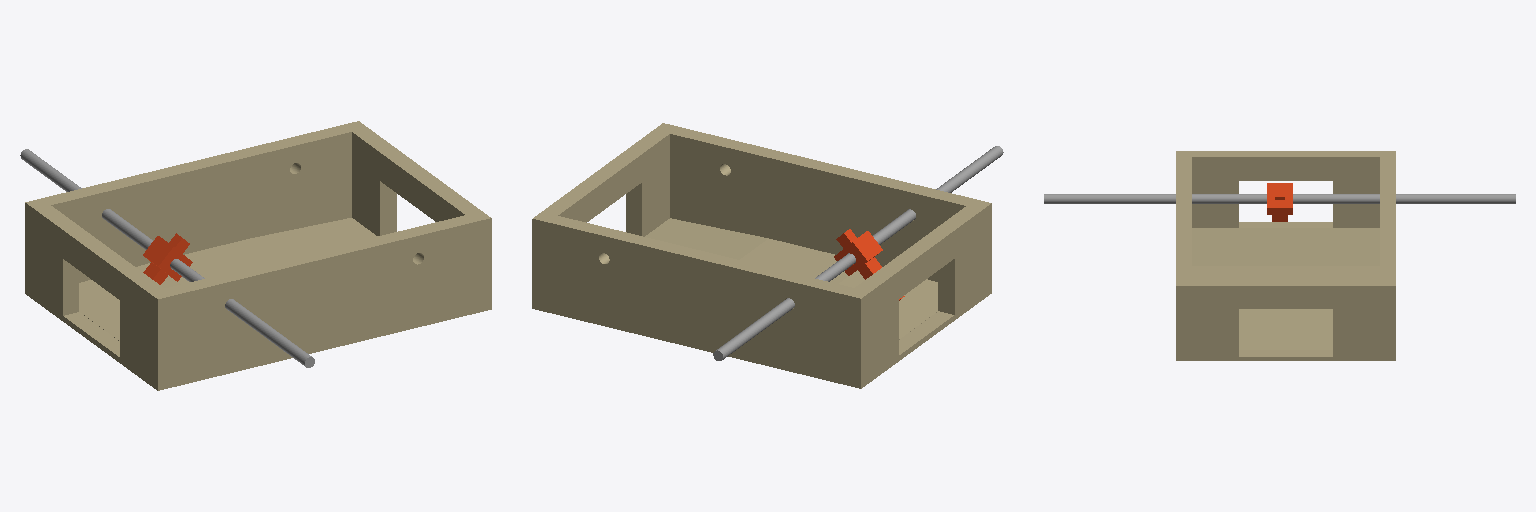
The robot description file, URDF, robot "foosball_robot":
<?xml version="1.0" ?>
<!-- Generated using onshape-to-robot -->
<!-- Onshape https://cad.onshape.com/documents/e803f61fd7378df7db81a183/w/36ce3c529374e351e627bf1e/e/ae663fd50540cead502d899d -->
<robot name="foosball_robot">
  <!-- Link main_body -->
  <link name="main_body">
    <inertial>
      <origin xyz="-1.49963e-14 6.72268e-17 0.0522025" rpy="0 0 0"/>
      <mass value="4.72465"/>
      <inertia ixx="0.134376" ixy="0" ixz="-1.81578e-12" iyy="0.20079" iyz="1.4124e-16" izz="0.30924"/>
    </inertial>
    <!-- Part main_body -->
    <visual>
      <origin xyz="-1.21021e-18 3.54014e-18 0" rpy="0 -0 0"/>
      <geometry>
        <mesh filename="package://assets/main_body.stl"/>
      </geometry>
      <material name="main_body_material">
        <color rgba="0.721569 0.678431 0.54902 1"/>
      </material>
    </visual>
    <!-- <collision>
      <origin xyz="-1.21021e-18 3.54014e-18 0" rpy="0 -0 0"/>
      <geometry>
        <mesh filename="package://assets/main_body.stl"/>
      </geometry>
    </collision> -->
  </link>
  <!-- Link rod -->
  <link name="rod">
    <inertial>
      <origin xyz="-1.38778e-17 -1.38778e-17 -0.45" rpy="0 0 0"/>
      <mass value="0.688975"/>
      <inertia ixx="0.0465213" ixy="0" ixz="0" iyy="0.0465213" iyz="-4.07439e-47" izz="3.109e-05"/>
    </inertial>
    <!-- Part rod -->
    <visual>
      <origin xyz="-0.0414993 -0.0452426 -0.45" rpy="-1.5708 -0 0"/>
      <geometry>
        <mesh filename="package://assets/rod.stl"/>
      </geometry>
      <material name="rod_material">
        <color rgba="0.647059 0.647059 0.647059 1"/>
      </material>
    </visual>
    <collision>
      <origin xyz="-0.0414993 -0.0452426 -0.45" rpy="-1.5708 -0 0"/>
      <geometry>
        <mesh filename="package://assets/rod.stl"/>
      </geometry>
    </collision>
  </link>
  <!-- Link player -->
  <link name="player">
    <inertial>
      <origin xyz="-4.34546e-17 0.0188179 1.59852e-17" rpy="0 0 0"/>
      <mass value="0.154321"/>
      <inertia ixx="0.000209611" ixy="-5.91939e-22" ixz="7.37338e-47" iyy="4.81083e-05" iyz="-2.36013e-47" izz="0.000210579"/>
    </inertial>
    <!-- Part player -->
    <visual>
      <origin xyz="-5.55112e-17 0.1 2.77556e-17" rpy="1.5708 -3.51765e-43 2.95182e-17"/>
      <geometry>
        <mesh filename="package://assets/player.stl"/>
      </geometry>
      <material name="player_material">
        <color rgba="0.866667 0.321569 0.156863 1"/>
      </material>
    </visual>
    <collision>
      <origin xyz="-5.55112e-17 0.1 2.77556e-17" rpy="1.5708 -3.51765e-43 2.95182e-17"/>
      <geometry>
        <mesh filename="package://assets/player.stl"/>
      </geometry>
    </collision>
  </link>
  <!-- Joint from rod to player -->
  <joint name="kicker" type="revolute">
    <origin xyz="0 0 -0.45" rpy="3.14159 2.13707e-27 -0.785315"/>
    <parent link="rod"/>
    <child link="player"/>
    <axis xyz="0 0 1"/>
    <limit effort="10" velocity="10" lower="-3.141592653589793" upper="3.141592653589793"/>
  </joint>
  <!-- Joint from main_body to rod -->
  <joint name="slider" type="prismatic">
    <origin xyz="-0.172 -0.461237 0.11" rpy="1.5708 -0 -1.81068e-29"/>
    <parent link="main_body"/>
    <child link="rod"/>
    <axis xyz="0 0 1"/>
    <limit effort="10" velocity="10" lower="-0.165237" upper="0.142763"/>
  </joint>
</robot>

--- Facts derived from the render (not from the file) ---
3 views of the same robot in one strip: view 1: azimuth 30°, elevation 25°; view 2: azimuth 150°, elevation 25°; view 3: azimuth 270°, elevation 25° (orthographic).
Model foosball_robot with 3 links and 2 joints (1 revolute, 1 prismatic), rooted at main_body, posed all joints at 0.
Visible links, largest first — view 1: main_body, rod, player; view 2: main_body, rod, player; view 3: main_body, rod, player.
Boxes of the visible links, left/top/right/bottom form: main_body: left=25, top=121, right=491, bottom=390; rod: left=20, top=149, right=314, bottom=367; player: left=143, top=233, right=192, bottom=284; main_body: left=532, top=123, right=991, bottom=388; rod: left=713, top=146, right=1003, bottom=360; player: left=834, top=229, right=904, bottom=300; main_body: left=1176, top=151, right=1395, bottom=360; rod: left=1044, top=194, right=1515, bottom=203; player: left=1267, top=183, right=1292, bottom=221.
Bounding box of the posed robot: 0.61 × 0.9 × 0.16 m (x, y, z).
3 mesh visuals loaded from 3 distinct referenced files (3 binary STL).